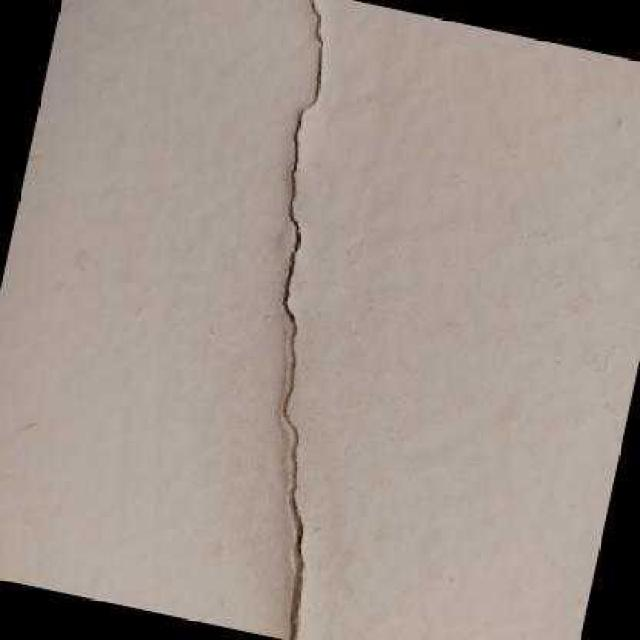D00: (279, 0, 323, 640)
